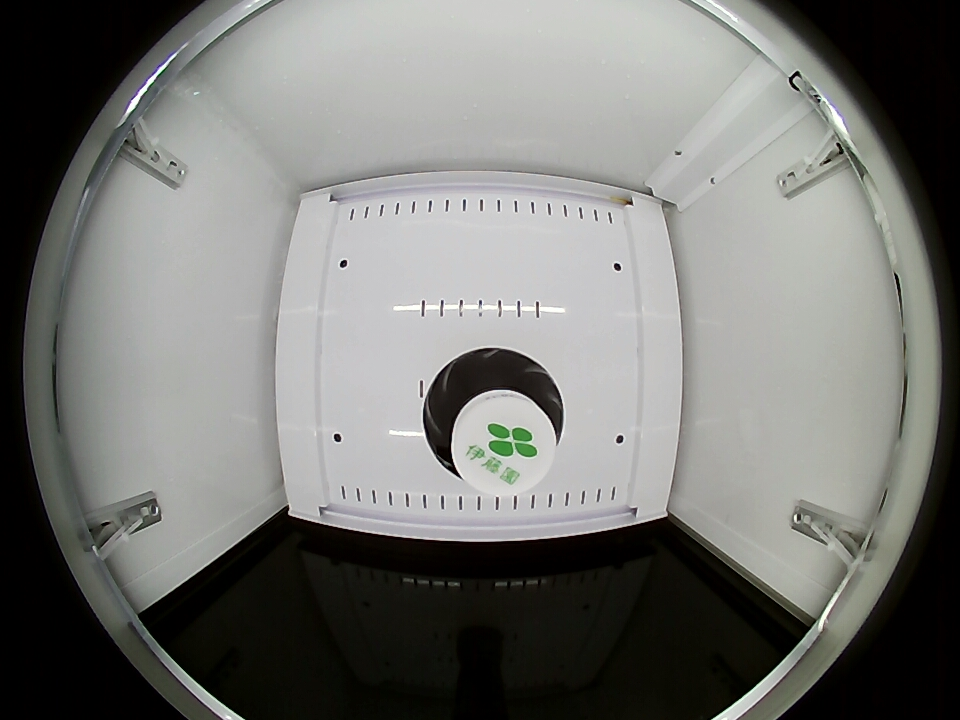damaicha: (423, 348, 565, 495)
